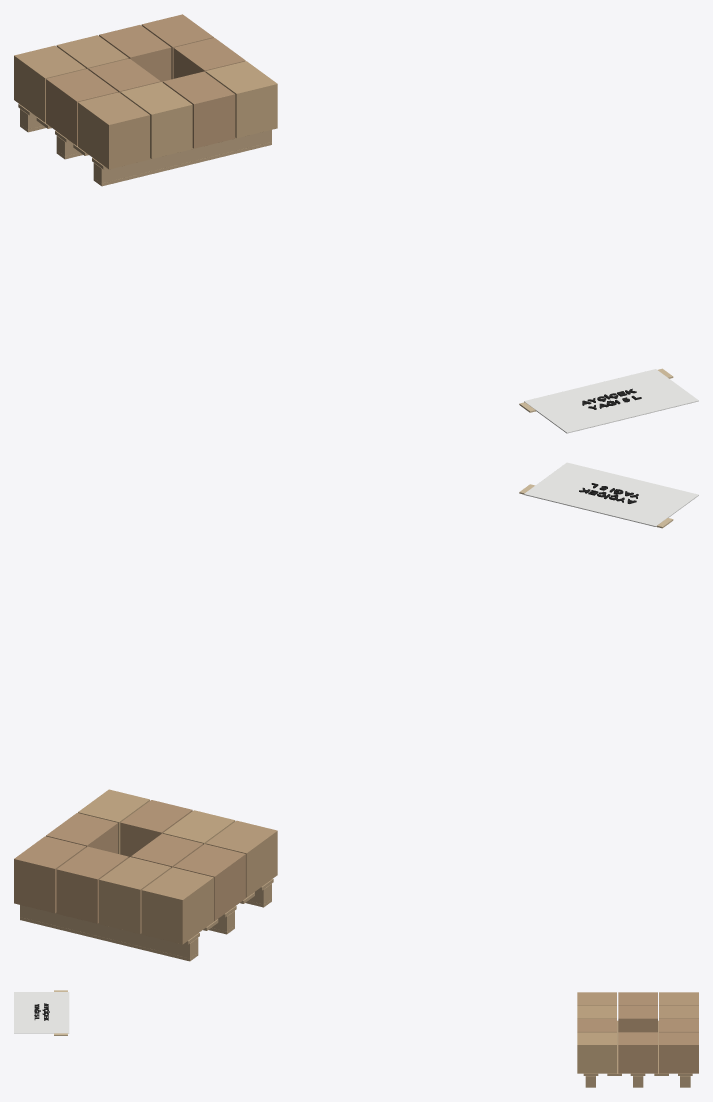
The model's file is delivery-eksik.glb.
3 renders of one model, top to bottom at view 1: azimuth 30°, elevation 25°; view 2: azimuth 150°, elevation 25°; view 3: azimuth 270°, elevation 25°, orthographic. The views are drawn at different scales.
Visible parts, largest first — view 1: delivery; view 2: delivery; view 3: delivery.
Part boxes in pixels (<box>): delivery: <box>14,14,698,433</box>; delivery: <box>14,462,698,961</box>; delivery: <box>14,990,698,1087</box>.
Size of the model in its own units: 1.2 by 0.52 by 6.53.
